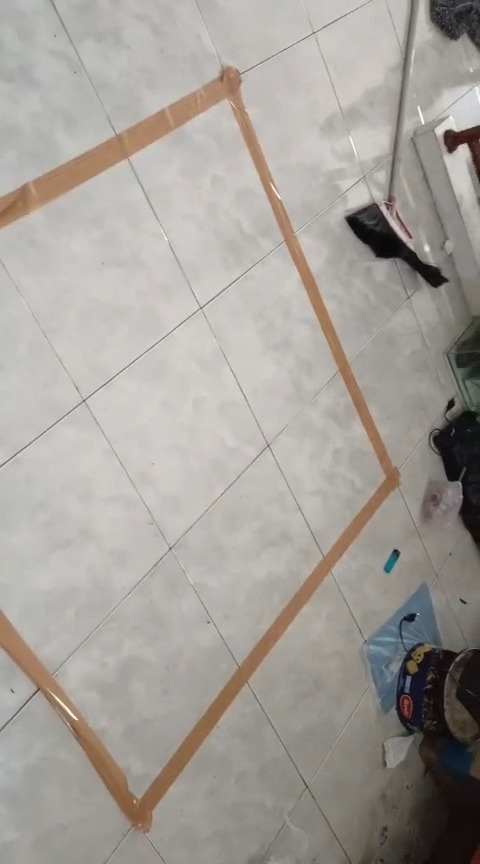floor marking: (0, 68, 398, 831)
